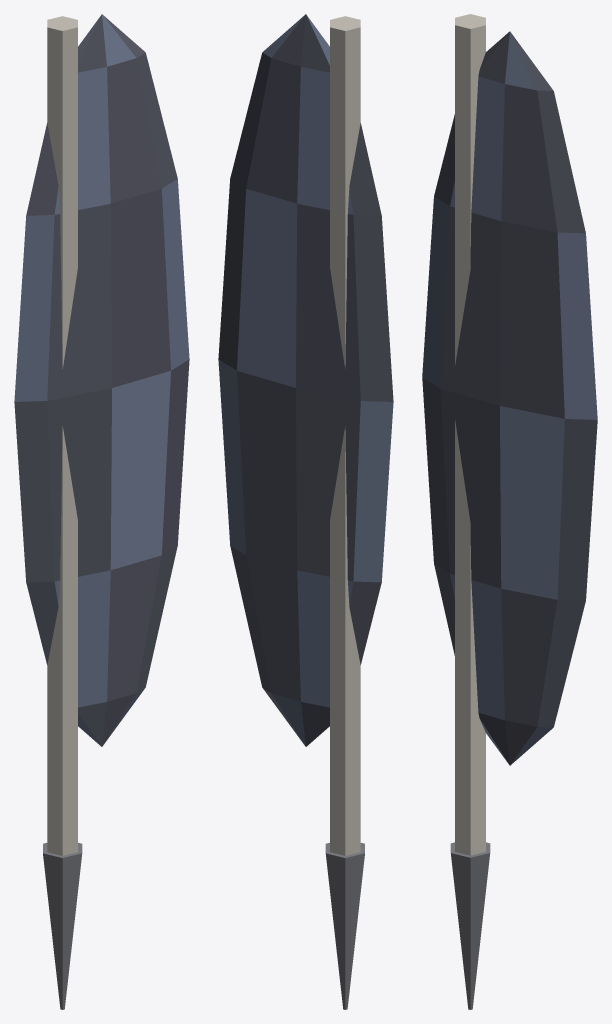
Rendered from seal_quill.glb.
3 renders of one model, left to right at view 1: azimuth 30°, elevation 25°; view 2: azimuth 150°, elevation 25°; view 3: azimuth 330°, elevation 25°, orthographic.
Visible parts, largest first — view 1: seal_quill; view 2: seal_quill; view 3: seal_quill.
Part boxes in pixels (left/top/right/bottom): seal_quill: left=14, top=14, right=189, bottom=1009; seal_quill: left=218, top=14, right=393, bottom=1009; seal_quill: left=422, top=14, right=597, bottom=1009.
Size of the model in its own units: 0.08 by 0.43 by 0.016.
